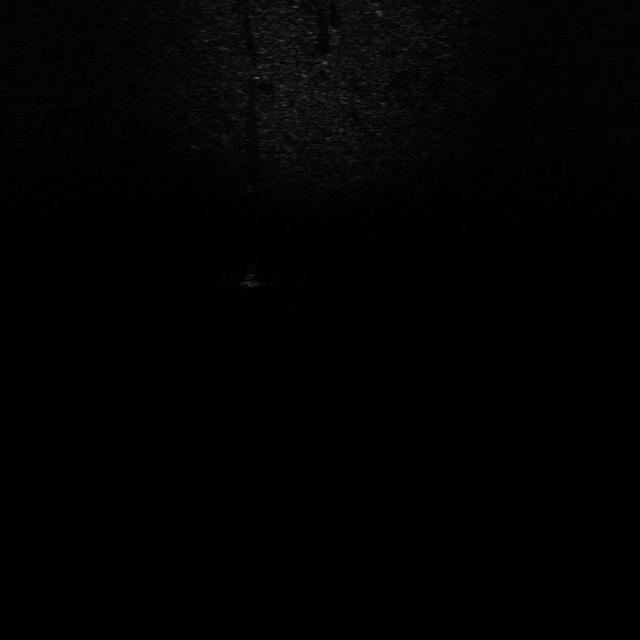human body: (233, 261, 263, 301)
